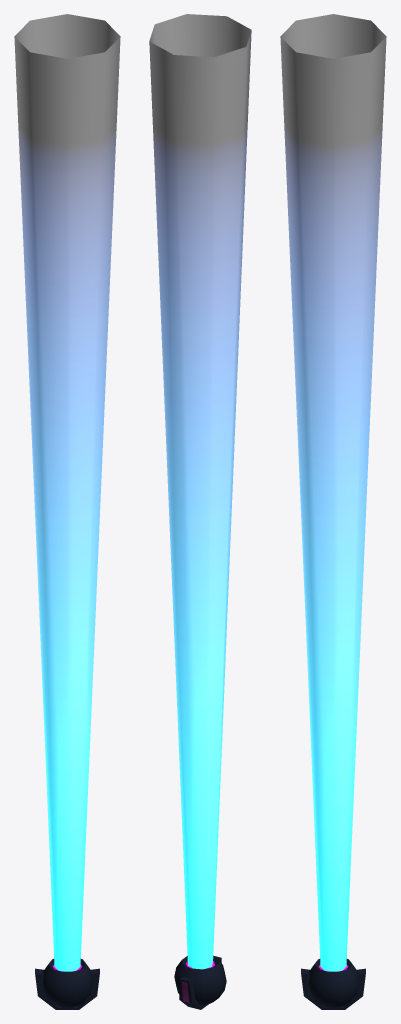
File: base_light.fbx
3 renders of one model, left to right at view 1: azimuth 90°, elevation 25°; view 2: azimuth 150°, elevation 25°; view 3: azimuth 270°, elevation 25°, orthographic.
Visible parts, largest first — view 1: m_Head_Lgt_002, m_Head_Lgt_001; view 2: m_Head_Lgt_002, m_Head_Lgt_001; view 3: m_Head_Lgt_002, m_Head_Lgt_001.
Part boxes in pixels (x1,y1,x2,y2): m_Head_Lgt_002: [14, 14, 120, 971]; m_Head_Lgt_001: [35, 959, 99, 1009]; m_Head_Lgt_002: [149, 14, 251, 969]; m_Head_Lgt_001: [174, 955, 226, 1009]; m_Head_Lgt_002: [280, 14, 386, 971]; m_Head_Lgt_001: [301, 959, 365, 1009].
Bounding box in the file's own units: 1.01 × 10.19 × 1.01.
2 materials, 2 textured.
